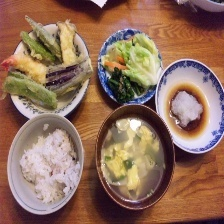rice: (16, 129, 84, 206)
